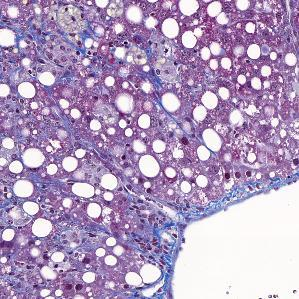fibrosis: (118, 202, 185, 266), (28, 16, 86, 62)
